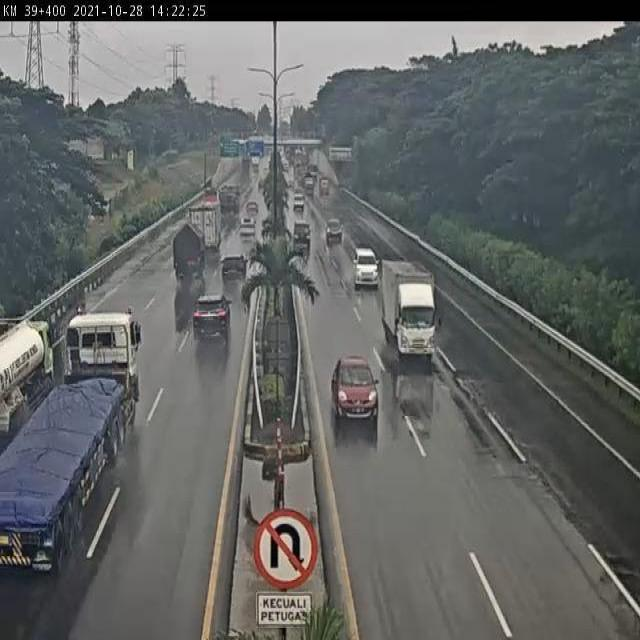car: (330, 355, 377, 424), (192, 290, 231, 342), (350, 248, 379, 288), (219, 250, 247, 286), (292, 219, 313, 249), (238, 213, 258, 240), (325, 218, 343, 245)
truck-l-: (182, 203, 221, 261)
truck-m-: (0, 317, 55, 423), (173, 224, 208, 281)
truck-s-: (380, 260, 437, 365)
truck-xl-: (0, 309, 143, 568)
